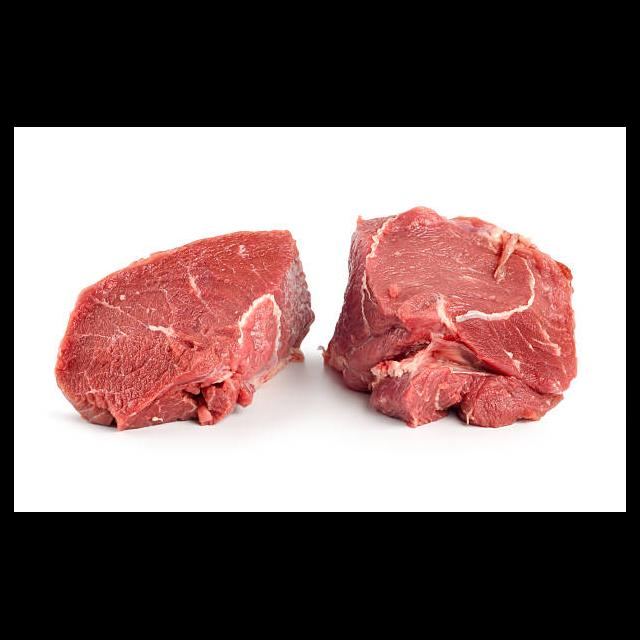beef: (317, 206, 579, 430), (54, 228, 317, 432)
